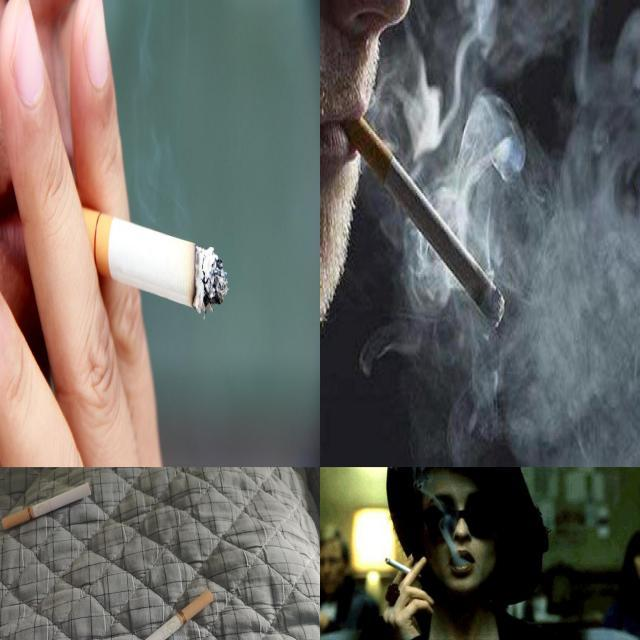cigarette: (346, 110, 508, 332), (29, 182, 230, 320), (369, 556, 440, 640), (116, 590, 215, 640), (2, 483, 92, 530)
